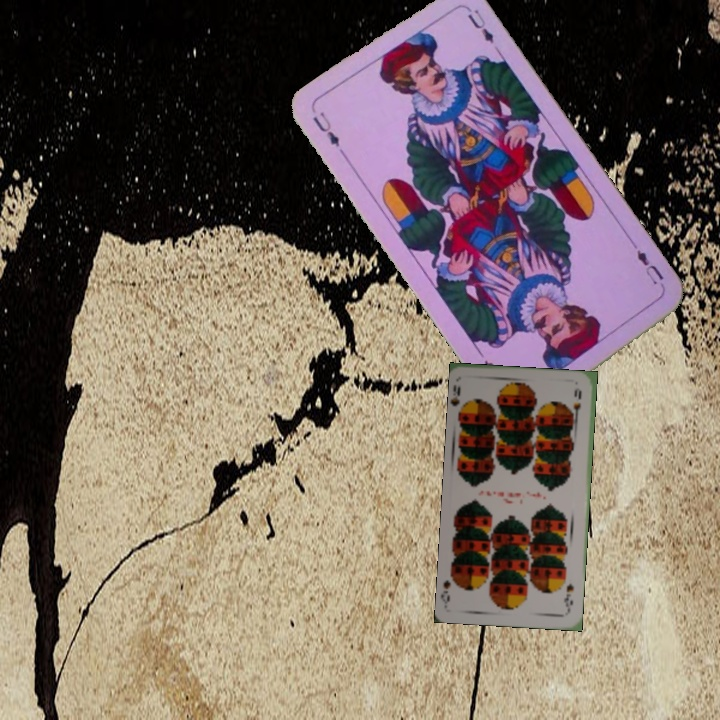EU: (628, 240, 668, 292), (308, 107, 343, 150)
S9: (450, 381, 470, 418), (560, 580, 576, 614)
